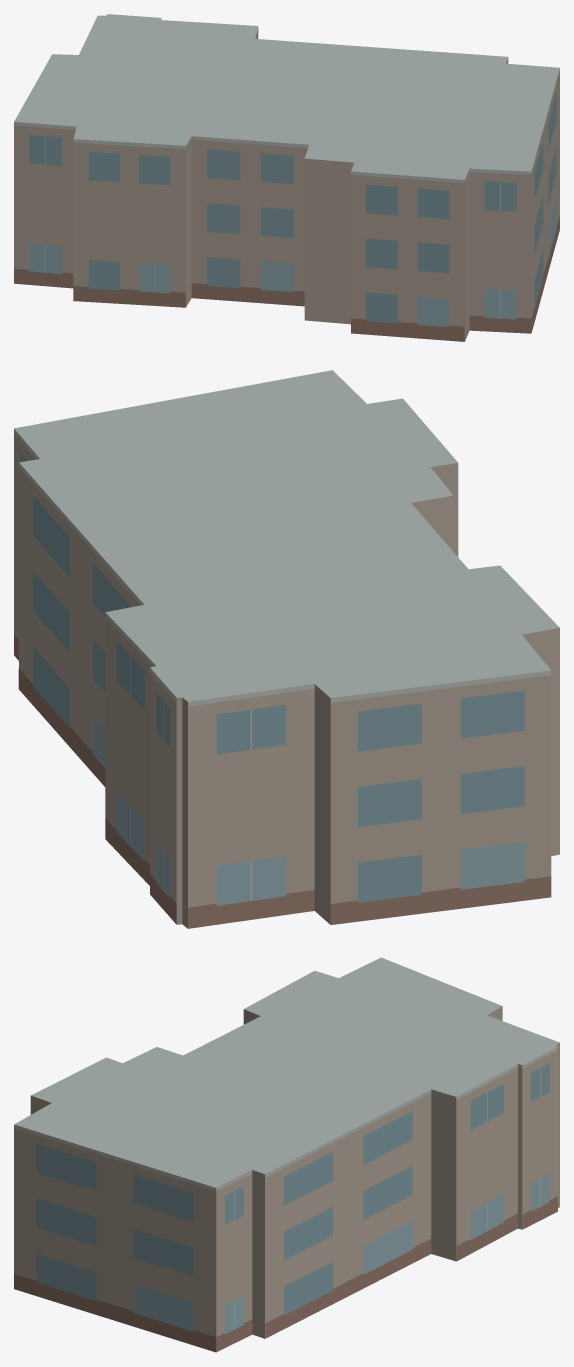
The model's file is survey-upis-32970444.glb.
3 renders of one model, top to bottom at view 1: azimuth 30°, elevation 25°; view 2: azimuth 150°, elevation 25°; view 3: azimuth 270°, elevation 25°, orthographic. The views are drawn at different scales.
Visible parts, largest first — view 1: survey-upis-32970444.tmp; view 2: survey-upis-32970444.tmp; view 3: survey-upis-32970444.tmp.
Boxes of the visible parts, box(x1,y1,x2,y2) form: survey-upis-32970444.tmp: box(14, 14, 559, 341); survey-upis-32970444.tmp: box(14, 370, 559, 928); survey-upis-32970444.tmp: box(14, 957, 559, 1352).
Bounding box in the file's own units: 34.24 × 11.4 × 34.27.
